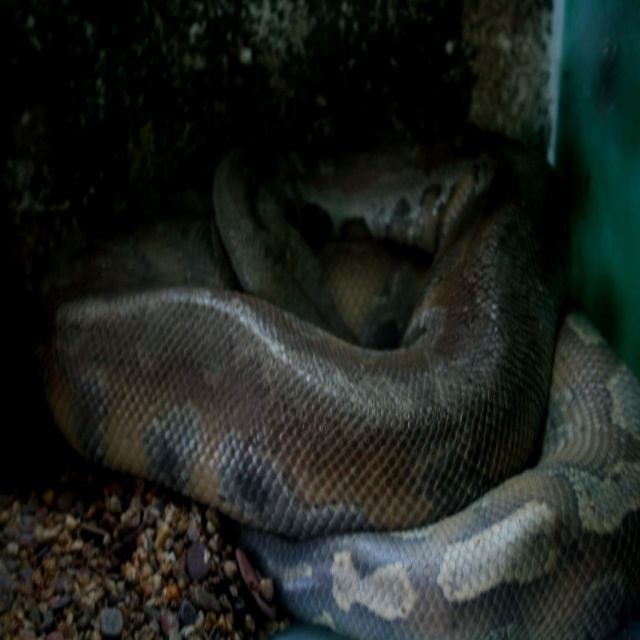Snake: (44, 112, 638, 636)
